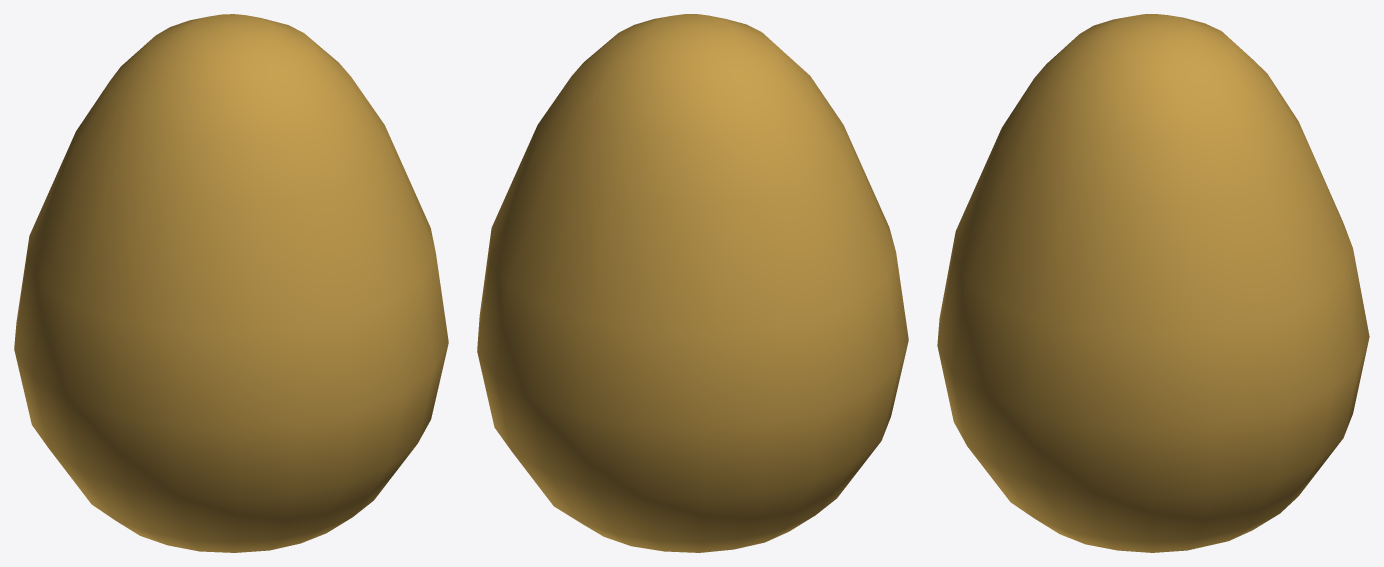
Rendered from GoldenEgg2.fbx.
The picture shows the model from 3 angles, left to right: view 1: azimuth 30°, elevation 25°; view 2: azimuth 150°, elevation 25°; view 3: azimuth 270°, elevation 25°; orthographic projection.
Parts seen in each view (by area): view 1: Sphere; view 2: Sphere; view 3: Sphere.
Part boxes in pixels (<box>): Sphere: <box>14,14,448,552</box>; Sphere: <box>477,14,908,552</box>; Sphere: <box>937,14,1369,552</box>.
Bounding box in the file's own units: 199 × 258 × 201.
